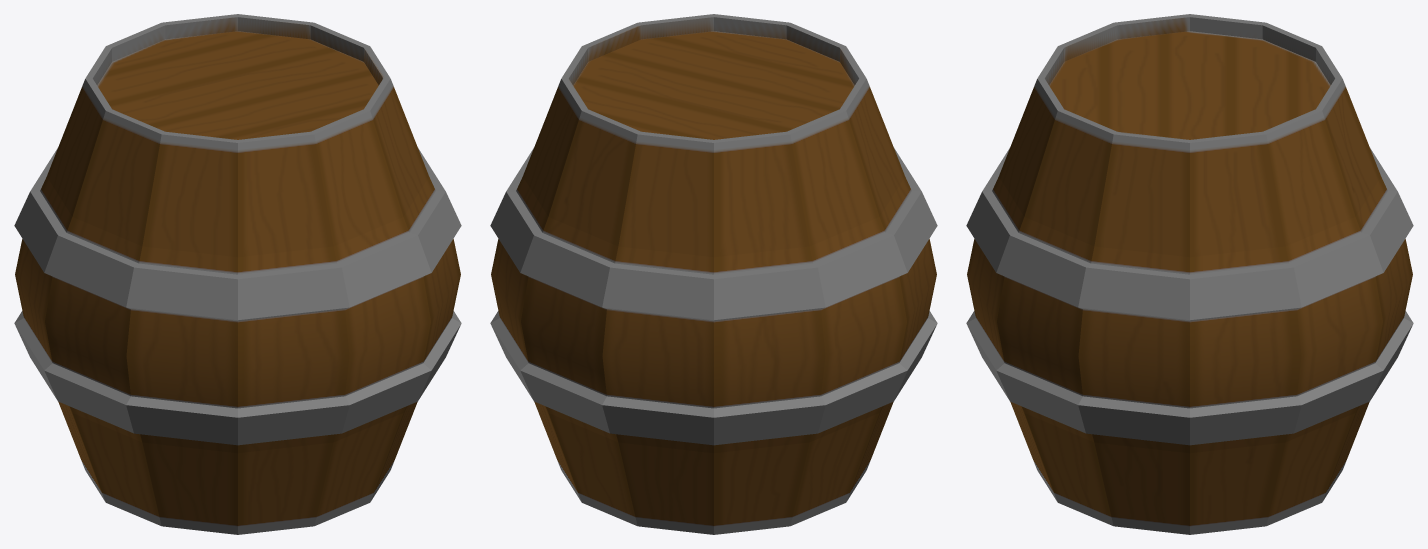
File: barrel.fbx
3 renders of one model, left to right at view 1: azimuth 30°, elevation 25°; view 2: azimuth 150°, elevation 25°; view 3: azimuth 270°, elevation 25°, orthographic.
Visible parts, largest first — view 1: pCylinder17; view 2: pCylinder17; view 3: pCylinder17.
Part boxes in pixels (box(x1,y1,x2,y2)): pCylinder17: box(14, 14, 461, 534); pCylinder17: box(490, 14, 937, 534); pCylinder17: box(966, 14, 1413, 534).
Bounding box in the file's own units: 2.07 × 2 × 2.07.
